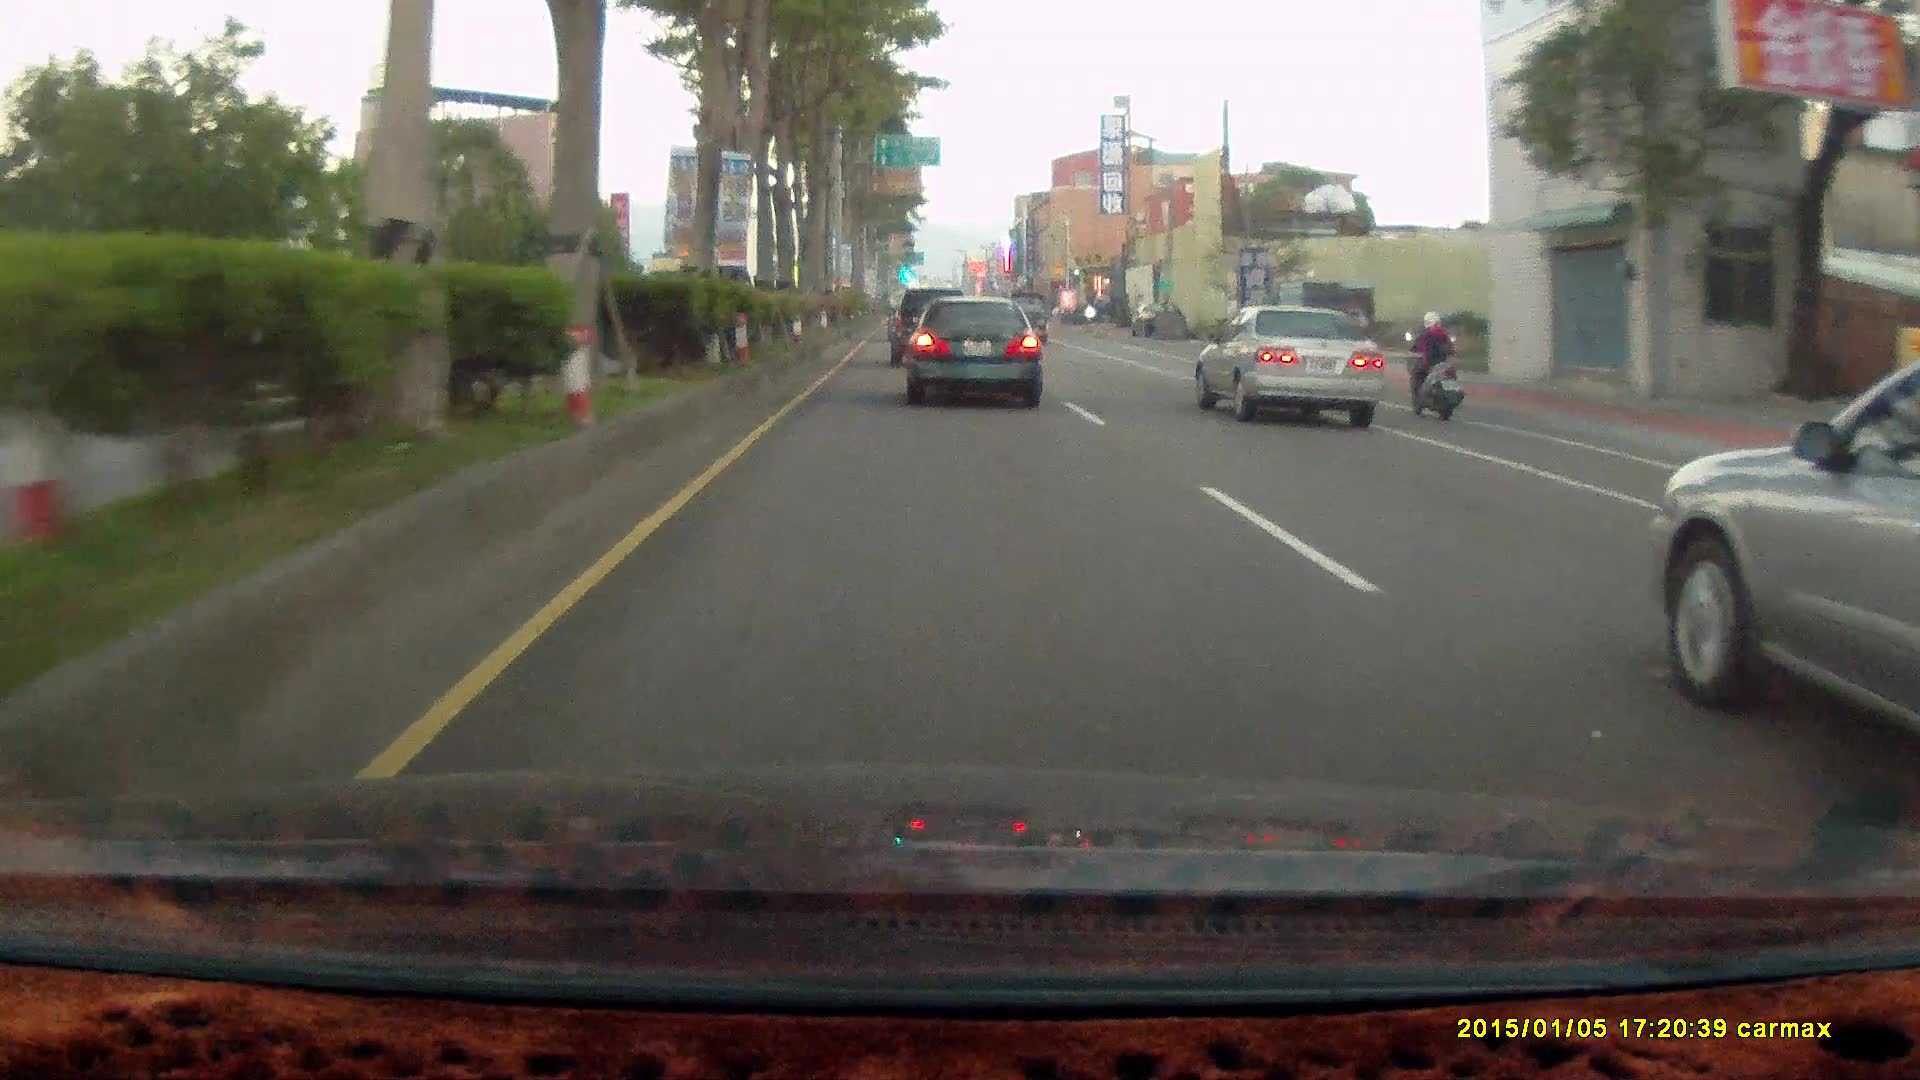rider: (1393, 297, 1474, 429), (1400, 300, 1465, 414)
vehicle: (1655, 356, 1920, 769), (1191, 300, 1383, 423), (1201, 302, 1387, 424), (902, 293, 1042, 405), (902, 292, 1041, 400), (1270, 278, 1376, 367), (888, 282, 971, 365), (889, 287, 970, 368), (1003, 287, 1049, 340), (1083, 286, 1140, 321)
